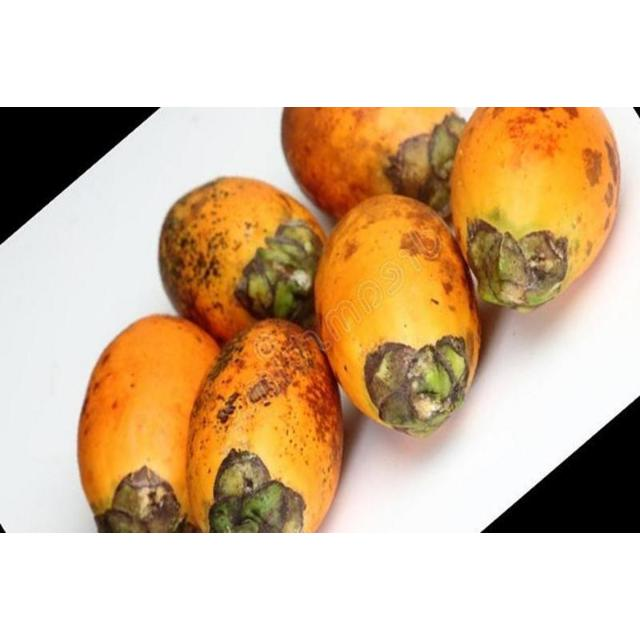good: (313, 194, 483, 440), (448, 107, 622, 313), (179, 320, 346, 533), (76, 315, 226, 533), (158, 177, 327, 348), (280, 107, 464, 221)
